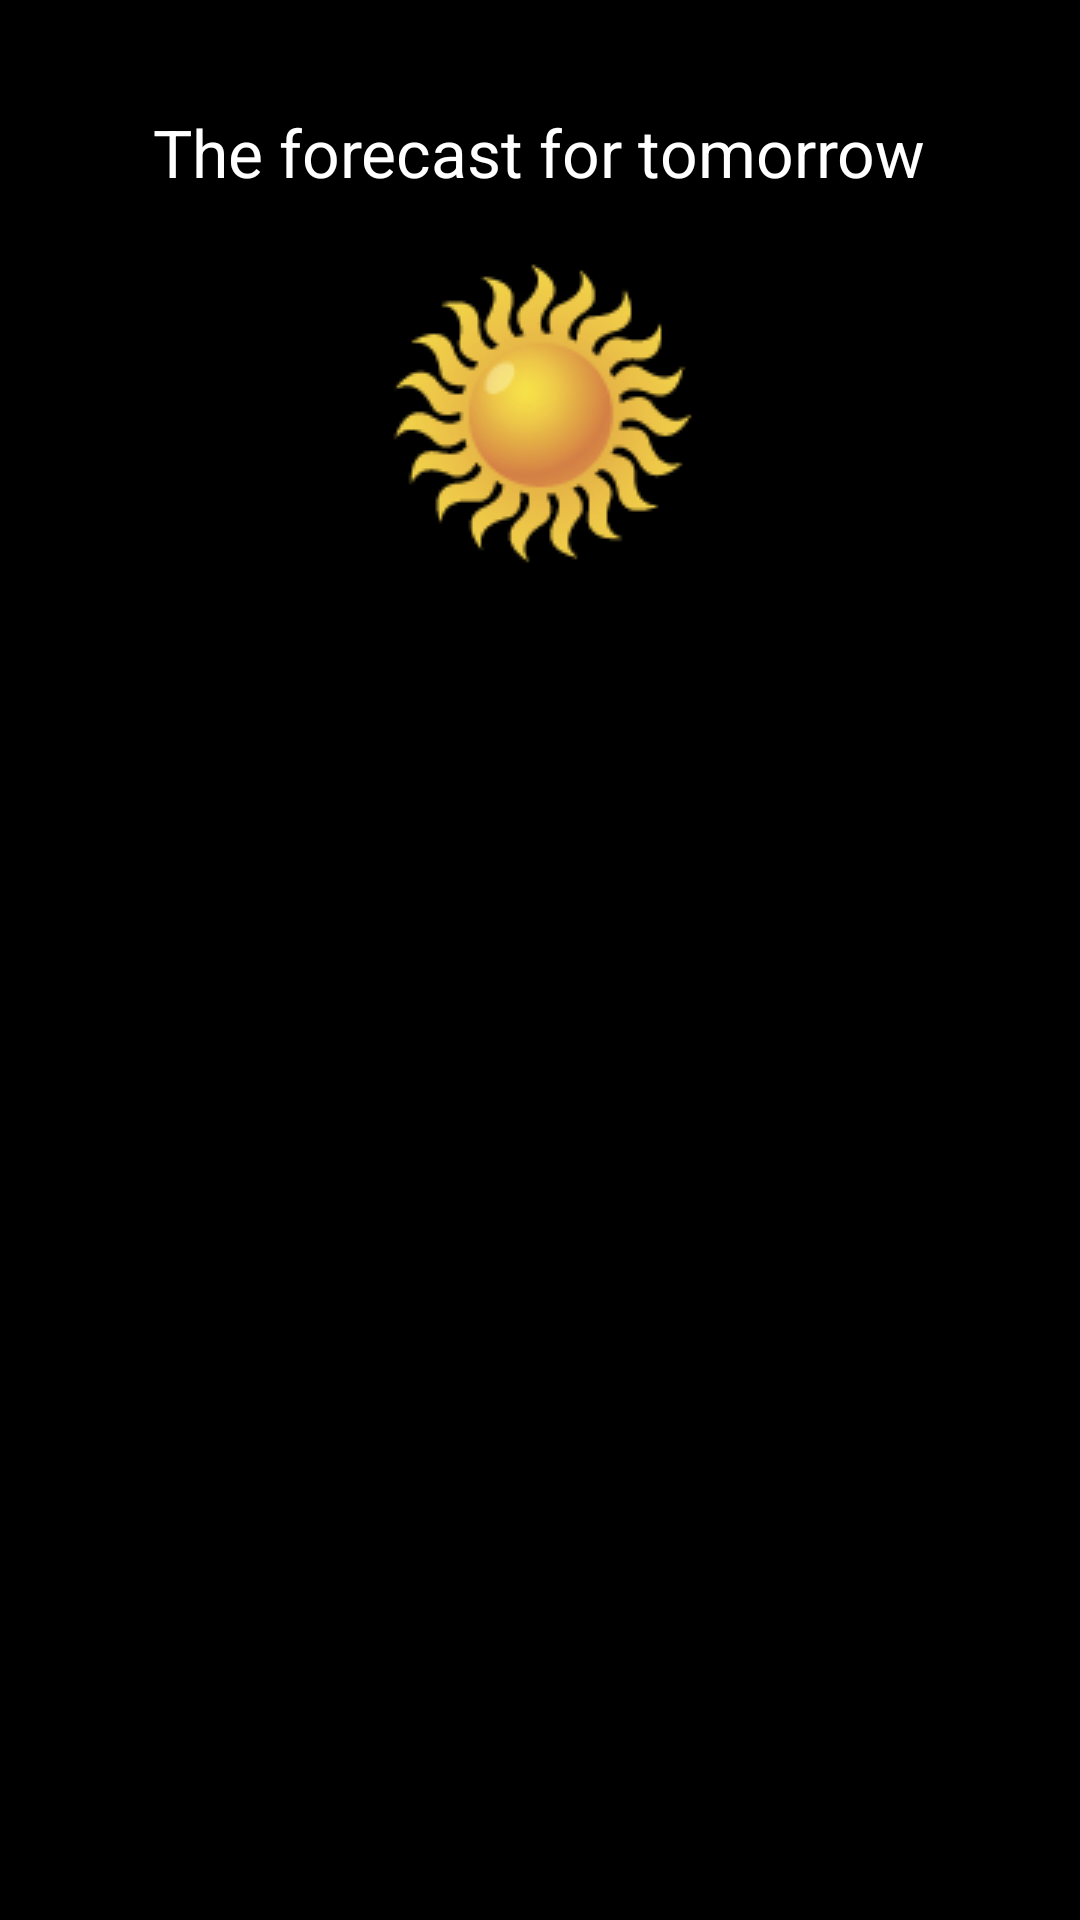

Icons on this 1080 x 1920 Android screen, each with the point to tap as [x,y]:
sun: [543,413]
